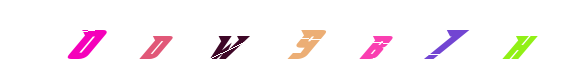0: (47, 0, 127, 80)
7: (295, 0, 375, 80)
9: (244, 0, 324, 80)
B: (268, 0, 348, 80)
D: (122, 0, 202, 80), (480, 0, 560, 80)
H: (407, 0, 487, 80)
W: (187, 0, 267, 80)
